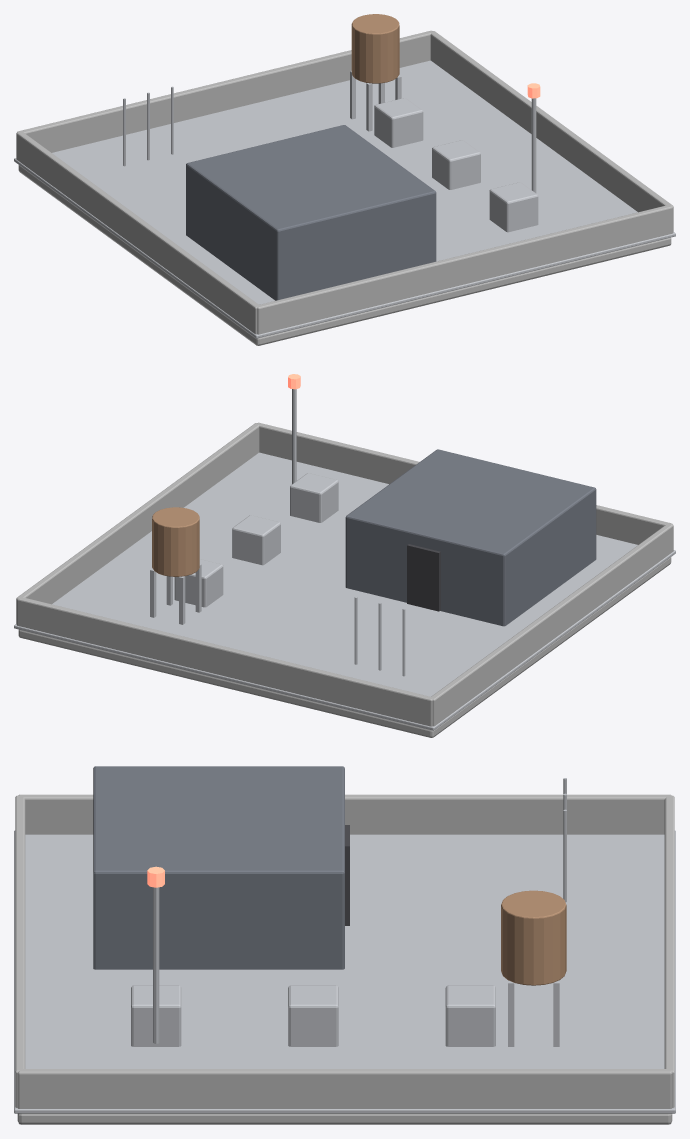
File: roof_5x5_mech_office.glb
3 renders of one model, top to bottom at view 1: azimuth 30°, elevation 25°; view 2: azimuth 150°, elevation 25°; view 3: azimuth 270°, elevation 25°, orthographic. The views are drawn at different scales.
Visible parts, largest first — view 1: int_slab_edge, ext_parapet, ext_penthouse, ext_ac, int_slab, ext_tank, ext_tank_legs, ext_mast; view 2: int_slab_edge, ext_parapet, ext_penthouse, ext_ac, int_slab, ext_tank, ext_penthouse_door, ext_tank_legs; view 3: int_slab_edge, ext_penthouse, ext_parapet, ext_ac, int_slab, ext_tank, ext_mast, ext_tank_legs.
Boxes of the visible parts, x1,y1,x2,y2 form: int_slab_edge: (14, 60, 675, 338); ext_parapet: (16, 30, 673, 334); ext_penthouse: (186, 125, 436, 300); ext_ac: (374, 98, 538, 232); int_slab: (18, 165, 671, 345); ext_tank: (351, 14, 399, 83); ext_tank_legs: (350, 70, 401, 131); ext_mast: (531, 98, 536, 192); int_slab_edge: (14, 452, 675, 730); ext_parapet: (16, 422, 673, 726); ext_penthouse: (345, 449, 596, 626); ext_ac: (174, 473, 338, 607); int_slab: (18, 557, 671, 737); ext_tank: (152, 507, 199, 576); ext_penthouse_door: (407, 544, 440, 611); ext_tank_legs: (150, 564, 201, 624); int_slab_edge: (14, 830, 675, 1113); ext_penthouse: (93, 766, 344, 969); ext_parapet: (15, 794, 674, 1108); ext_ac: (131, 985, 495, 1046); int_slab: (17, 1113, 672, 1124); ext_tank: (501, 890, 566, 985); ext_mast: (153, 887, 159, 1043); ext_tank_legs: (508, 980, 559, 1046).
Size of the model in its own units: 5.26 by 1.73 by 5.26.
